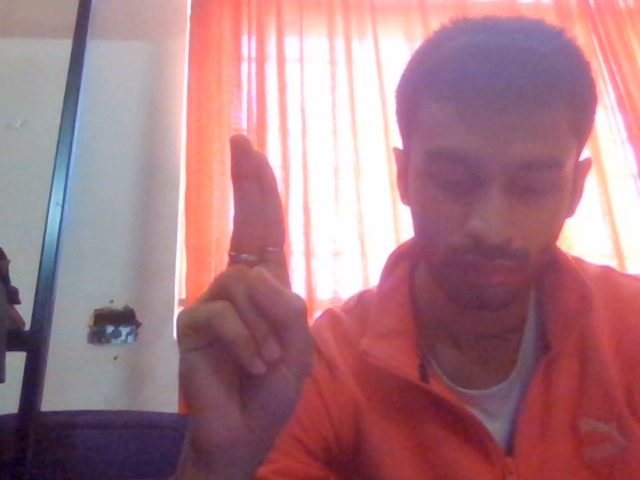U: (117, 88, 347, 470)
